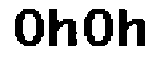0: (9, 7, 45, 48), (84, 5, 112, 51)
h: (47, 6, 81, 48), (118, 8, 149, 52)
